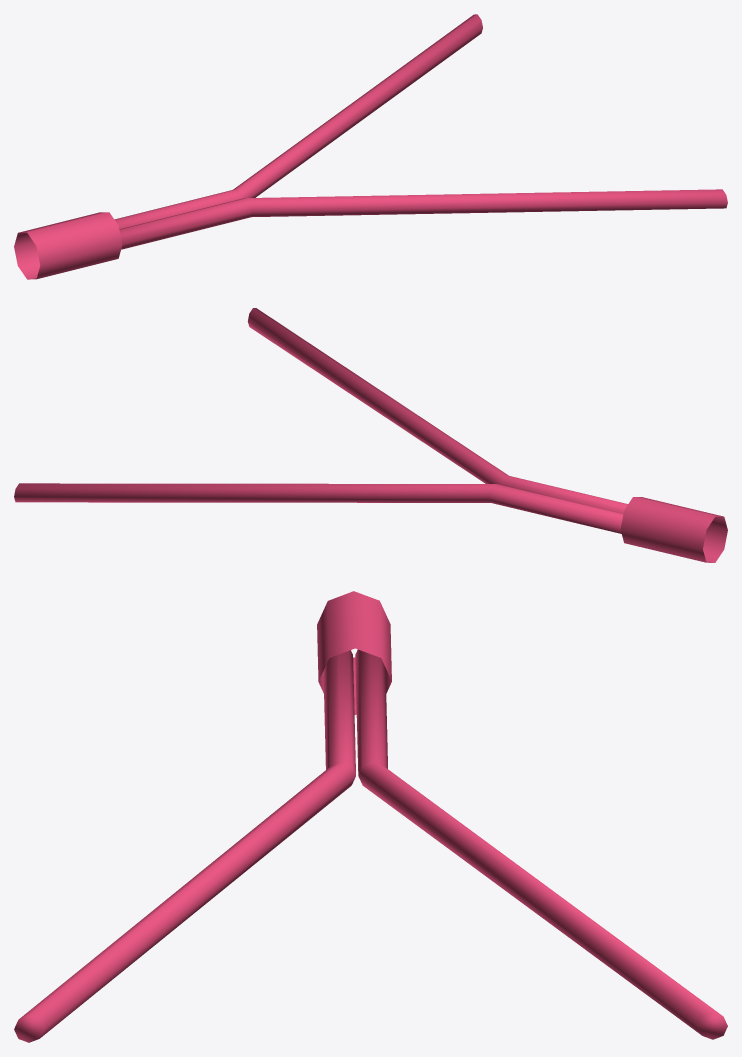
File: Scraper winch ropes.fbx
The picture shows the model from 3 angles, top to bottom: view 1: azimuth 30°, elevation 25°; view 2: azimuth 150°, elevation 25°; view 3: azimuth 270°, elevation 25°; orthographic projection. The views are drawn at different scales.
Parts seen in each view (by area): view 1: Plane.015; view 2: Plane.015; view 3: Plane.015.
Part boxes in pixels (bbox=[...]): Plane.015: bbox=[14, 14, 727, 279]; Plane.015: bbox=[14, 308, 727, 562]; Plane.015: bbox=[14, 591, 727, 1042].
Size of the model in its own units: 73.73 by 5.68 by 55.12.
